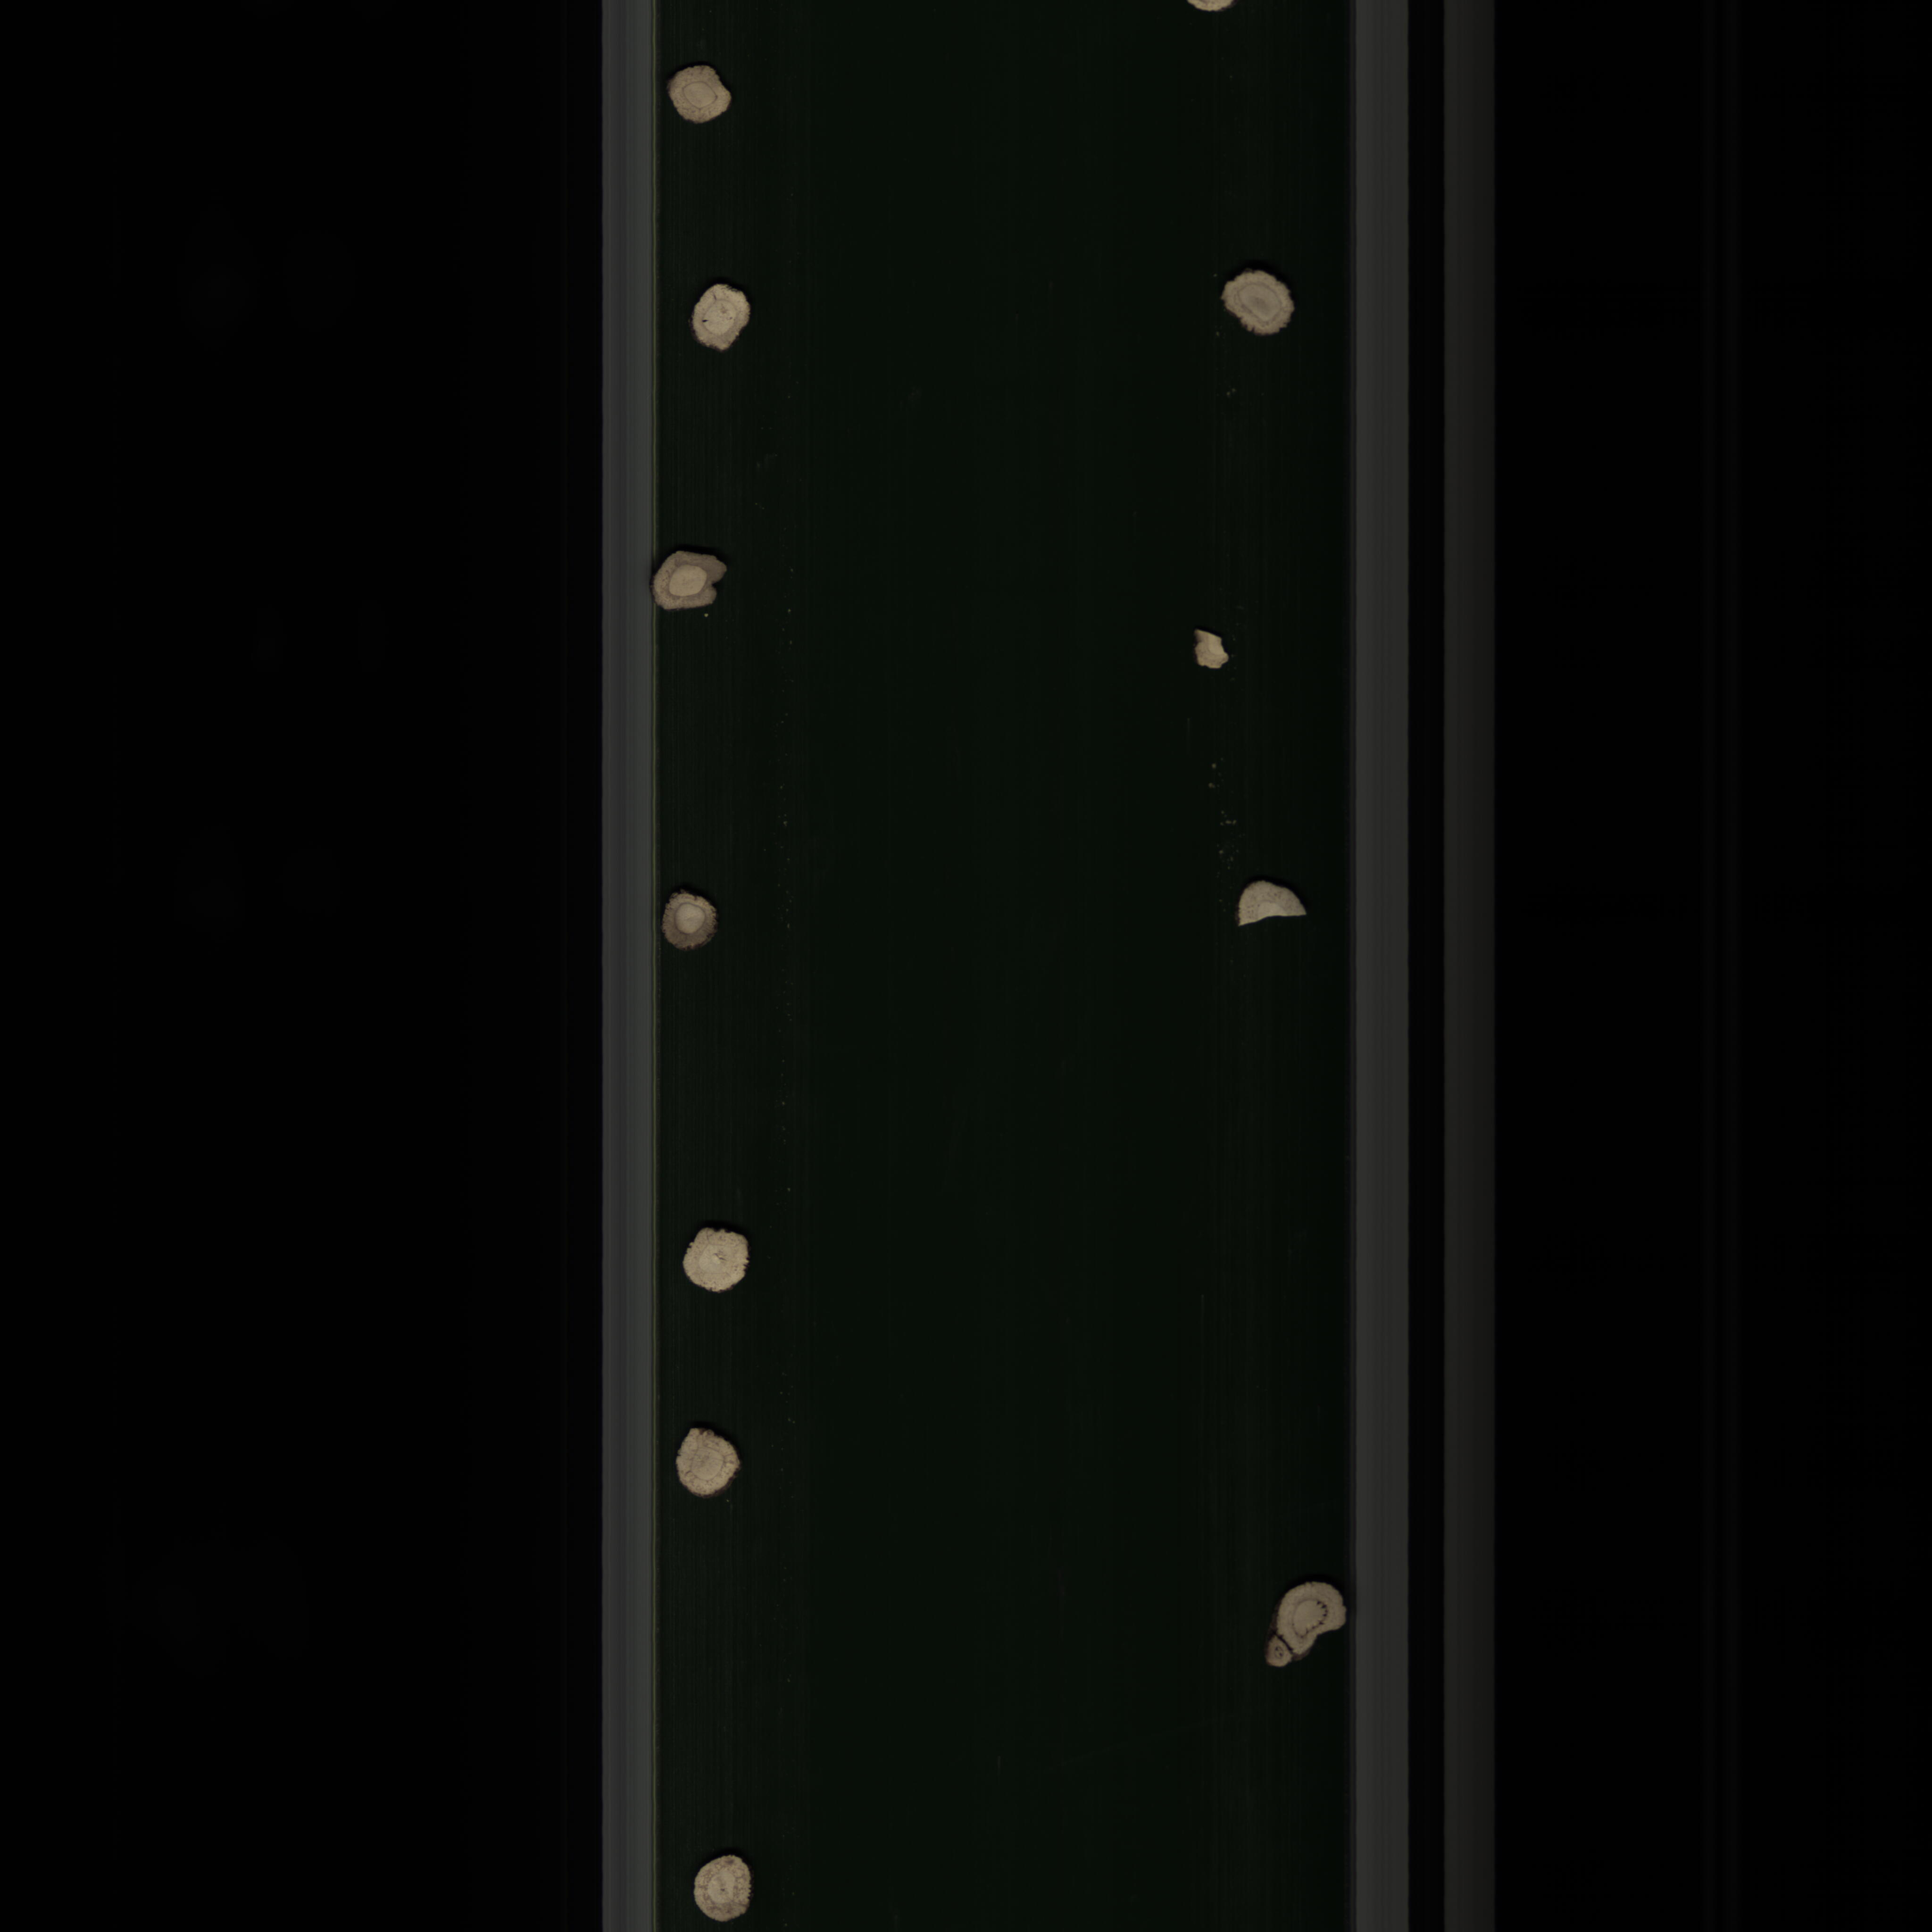debris: (1228, 872, 1311, 936), (1180, 616, 1238, 679)
distortion: (1263, 1573, 1346, 1674)
moldy: (655, 538, 729, 616), (658, 886, 731, 959)
